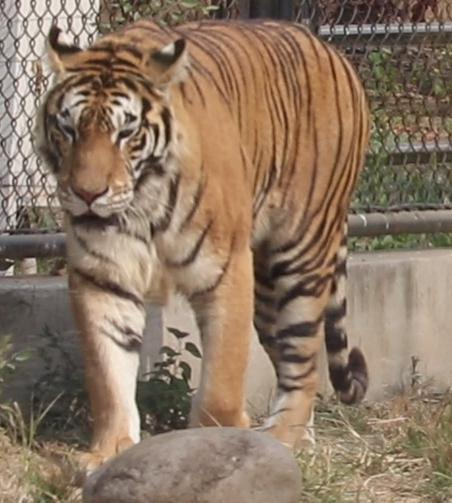tiger: (33, 20, 368, 467)
